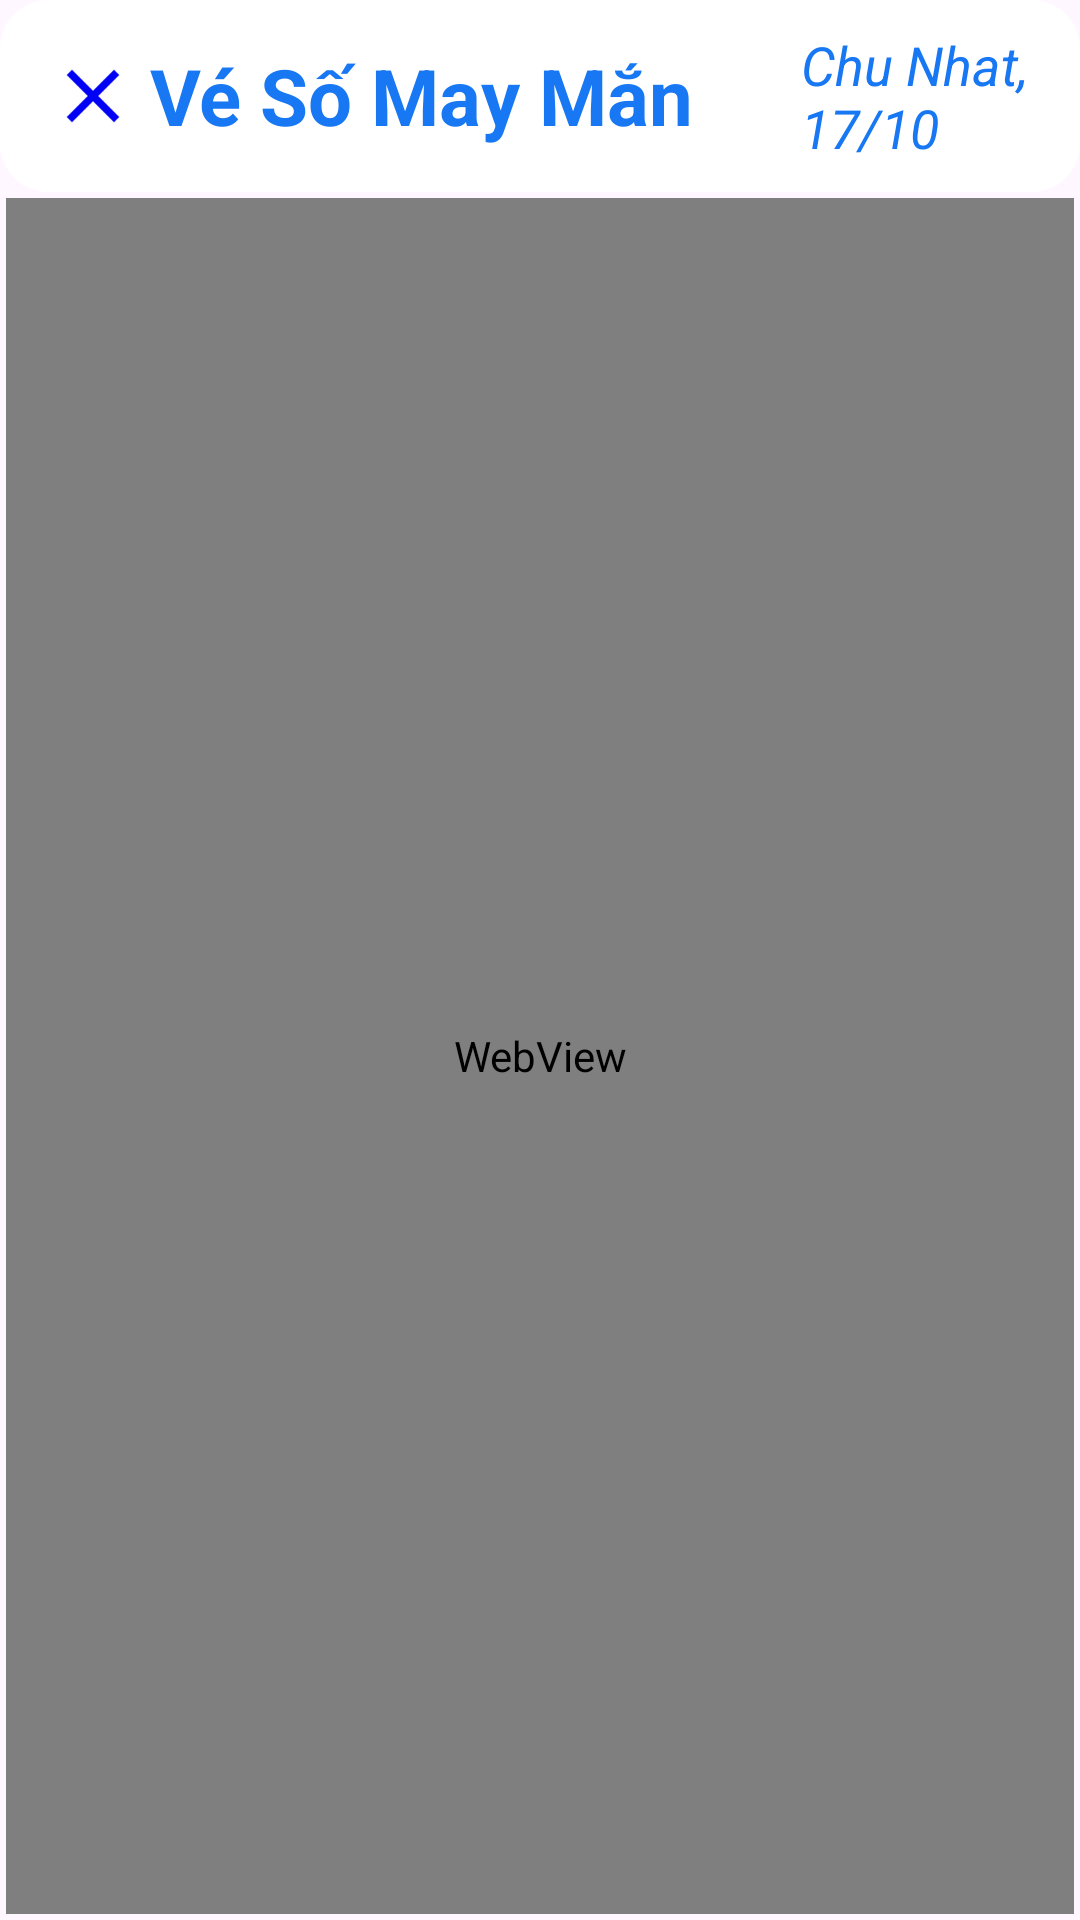

Screen size 1080px x 1920px. Icon name, then its box in pixels as (x1, y1, x2, y2):
close: (67, 70, 119, 122)
